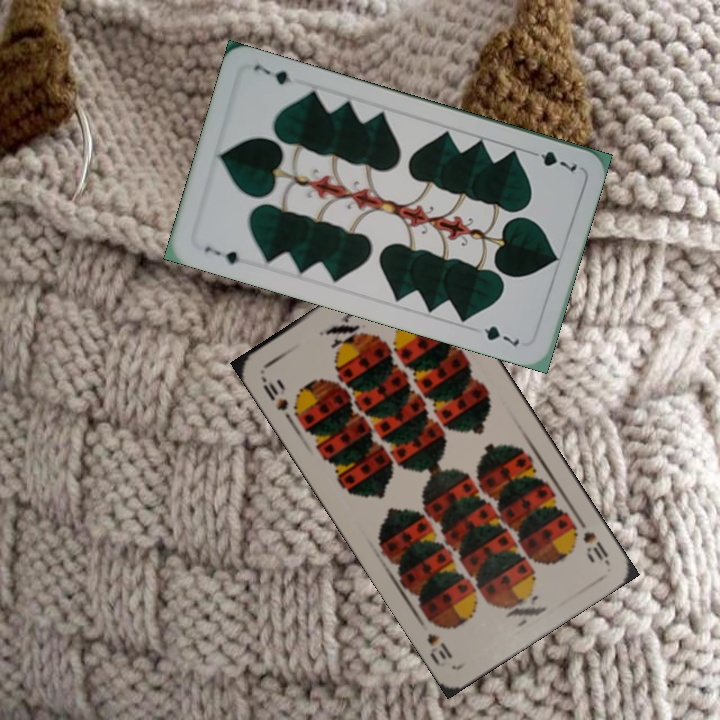G7: (523, 145, 580, 175), (200, 242, 243, 268)
S10: (572, 512, 611, 565), (256, 371, 291, 414)
